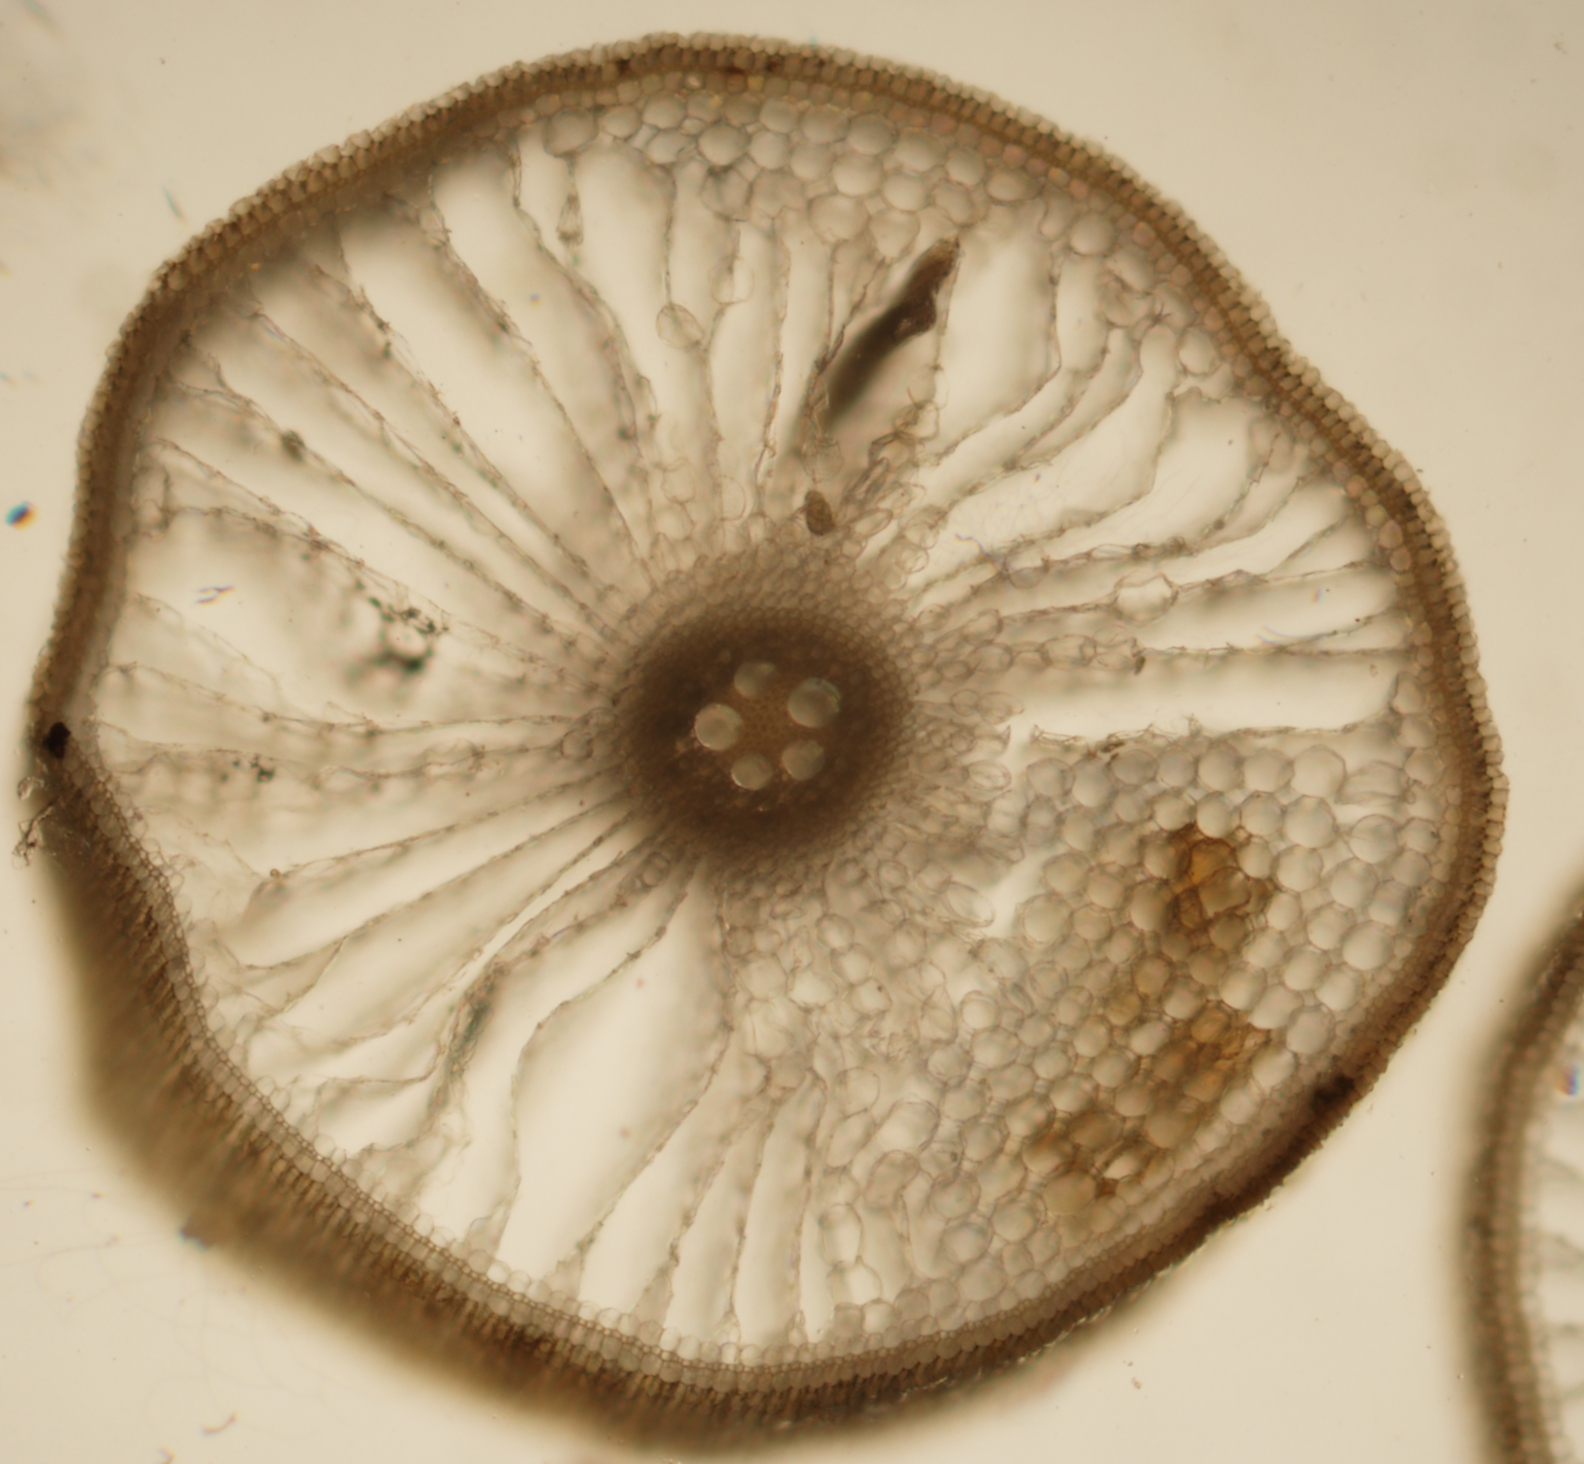lm: (786, 677, 842, 729), (694, 702, 745, 751), (782, 738, 825, 781), (733, 660, 775, 700), (730, 751, 773, 791)
